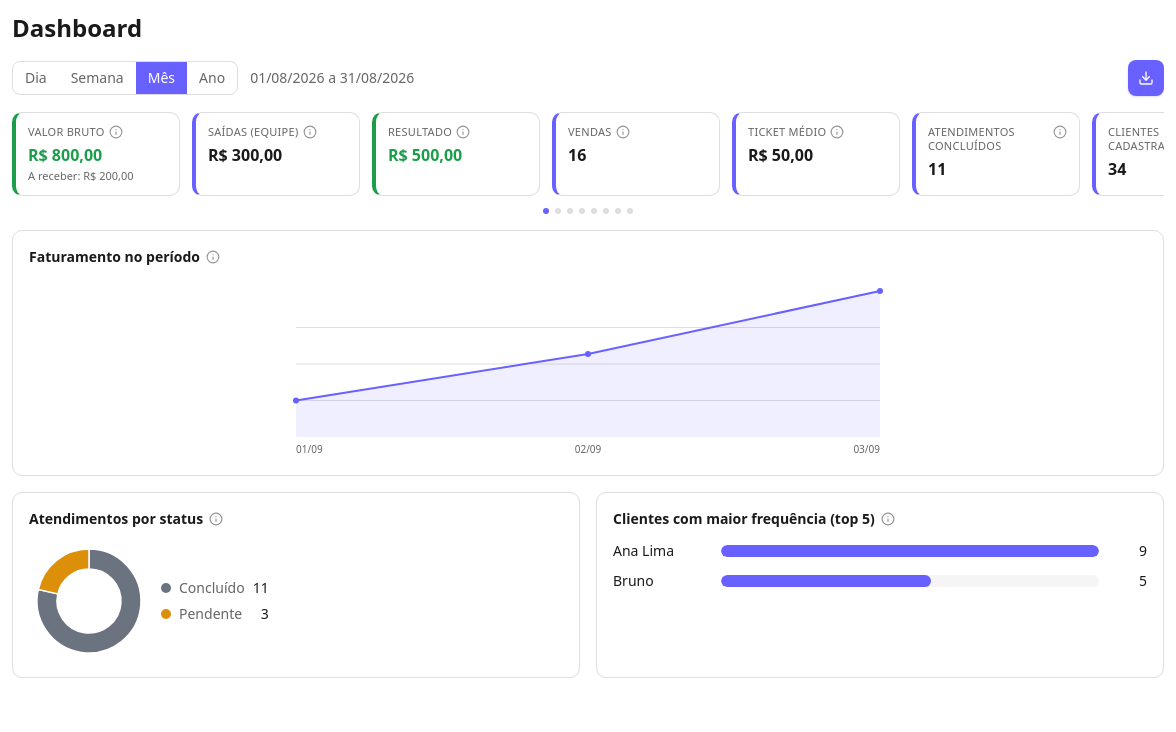
Test case: Dashboard (Story 5.6) › cada indicador tem dica (significado + cálculo) que abre no clique (mobile)
Check: the text "Valor bruto" is shown, box x1=28 y1=125 x2=105 y2=139
Abre a dica do Ticket médio (explica o cálculo).
Click the button named "O que é Ticket médio?" at (838, 132), box x1=830 y1=125 x2=844 y2=139
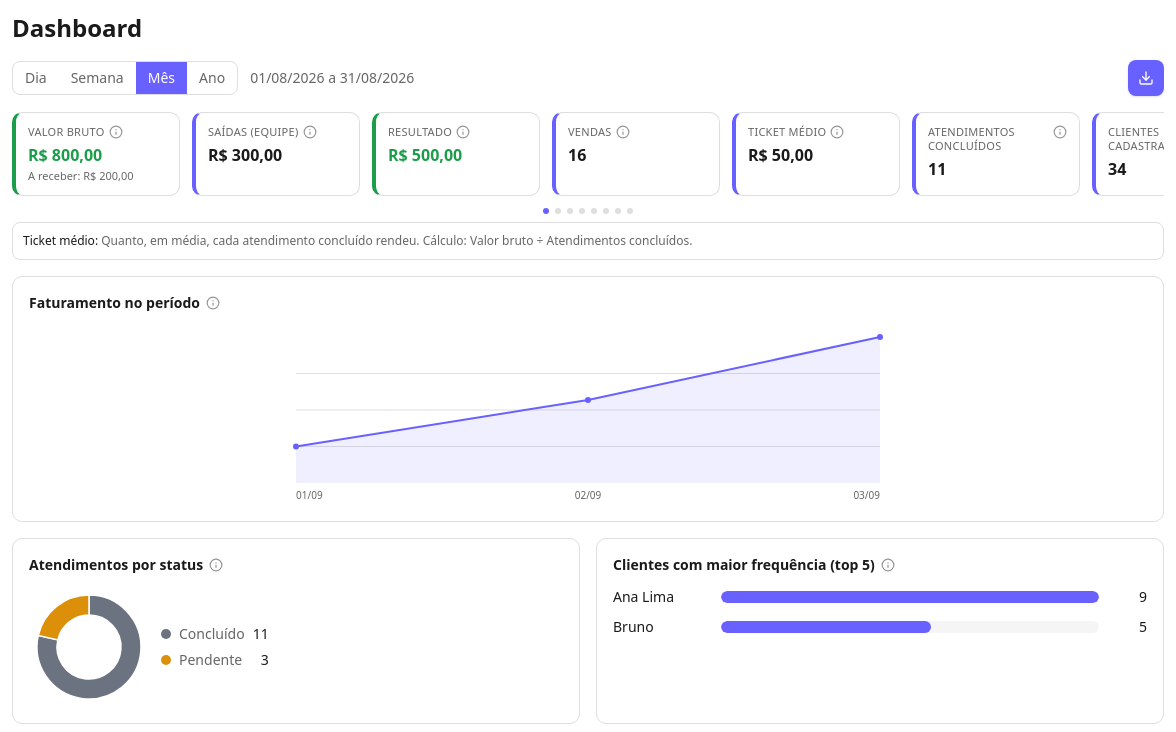
Check: the text "Valor bruto ÷ Atendimentos concluídos" is shown, box x1=101 y1=232 x2=692 y2=249
Gráficos também têm dica.
Click the button named "O que é Clientes com maior frequência" at (888, 565), box x1=881 y1=558 x2=895 y2=572
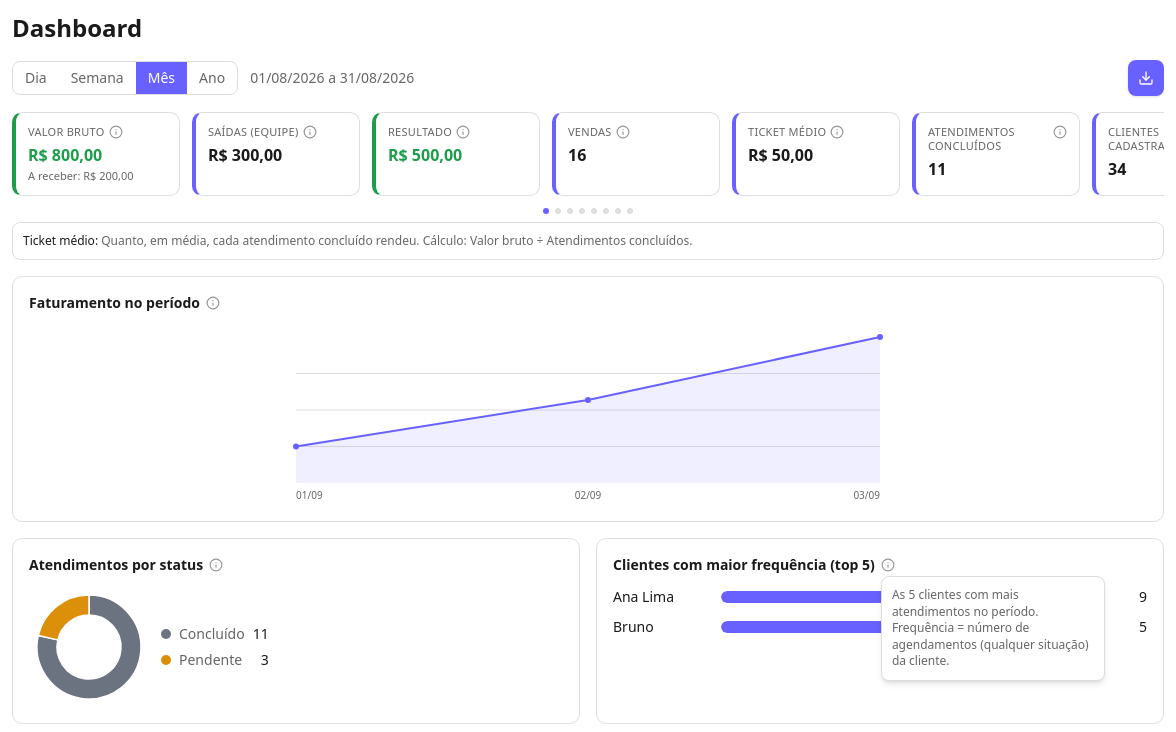
Check: the text "Frequência = número de agendamentos" is shown, box x1=892 y1=586 x2=1089 y2=669
